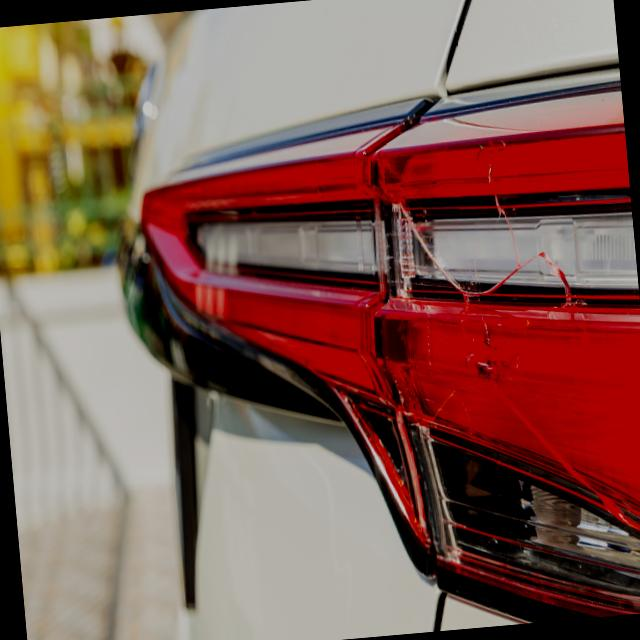Phare abime: (369, 143, 625, 520)
